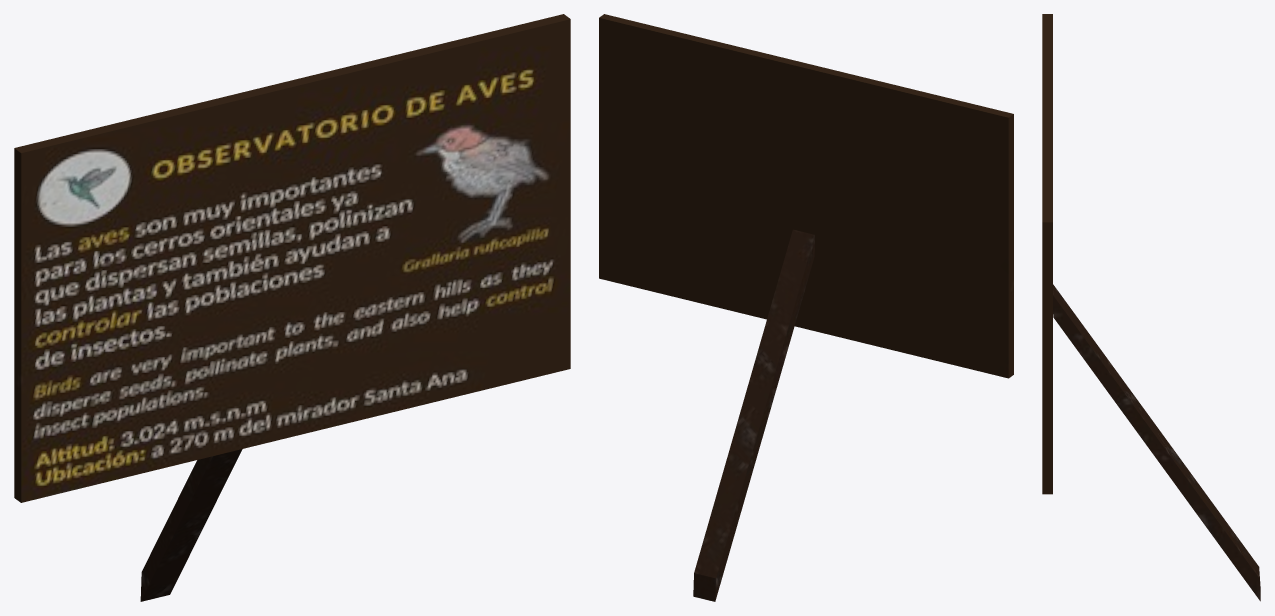
The model's file is letrero-observatorio-de-aves.glb.
3 views of the same model, side by side, from view 1: azimuth 30°, elevation 25°; view 2: azimuth 150°, elevation 25°; view 3: azimuth 270°, elevation 25° (orthographic). The views are drawn at different scales.
Bounding box in the file's own units: 8.9 × 9.51 × 3.94.
2 materials, 2 textured.
